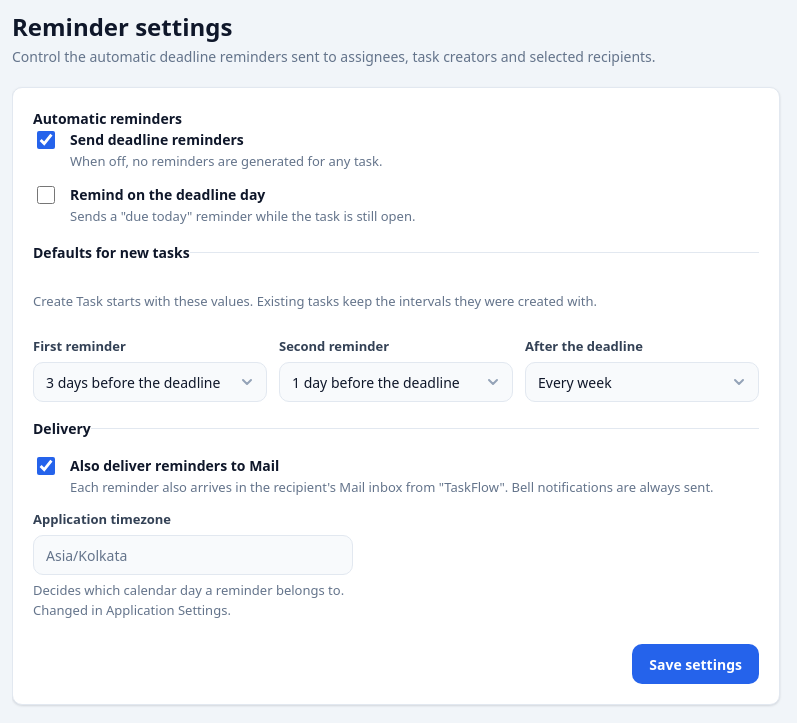
ReminderSettingsComponent › hides the Saved confirmation again once a field is edited
This screenshot has width=797, height=723.
Click the button "Save settings" at {"x": 696, "y": 664}, box [632,644,759,684]
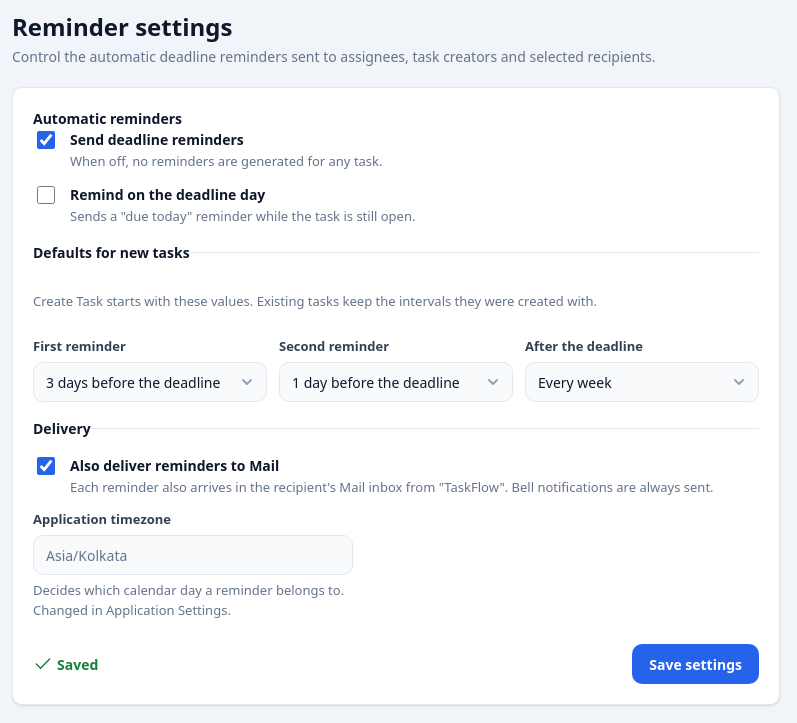
Check: the message "Saved" is shown, box [57,654,98,674]
